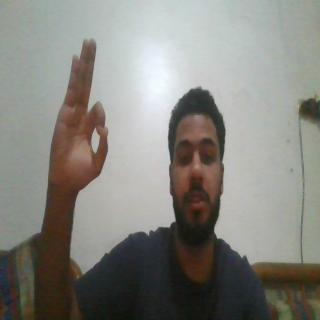Space: (42, 32, 110, 189)
